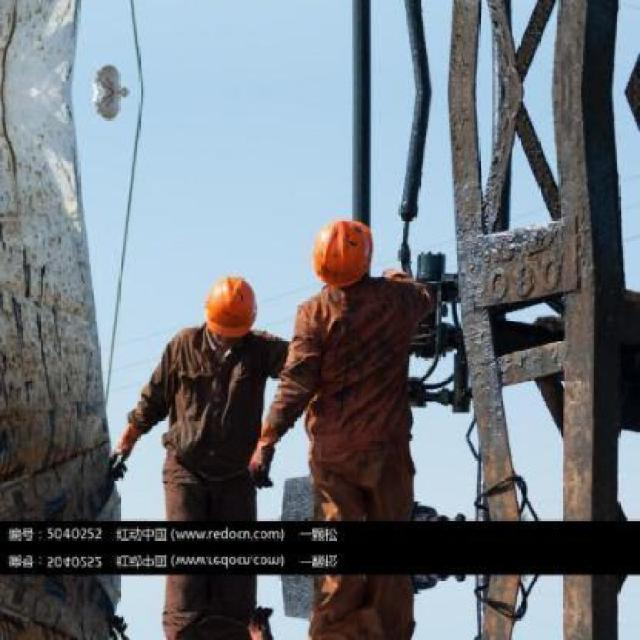helmet: (310, 216, 376, 290), (202, 275, 260, 337)
